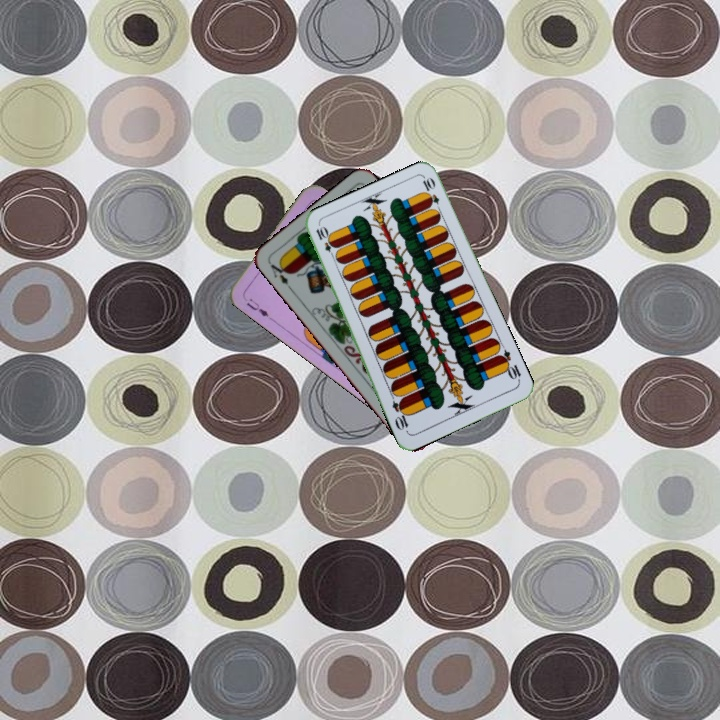E10: (494, 346, 524, 384), (312, 222, 339, 261)
EA: (265, 257, 295, 293)
EU: (240, 293, 271, 320)
